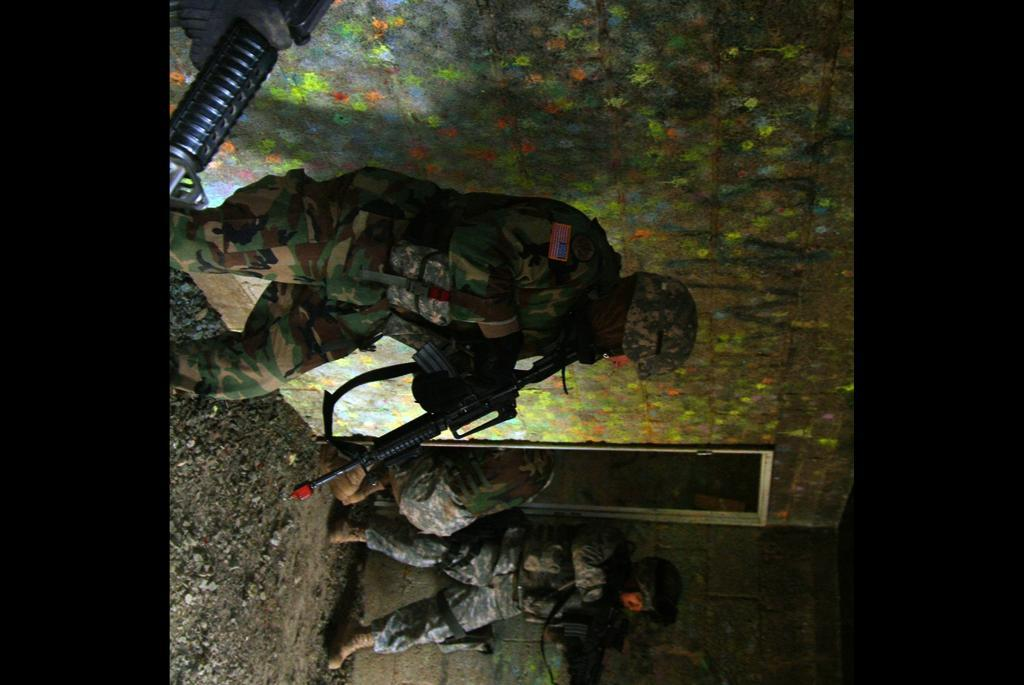gun: (284, 339, 602, 505), (550, 595, 629, 685)
